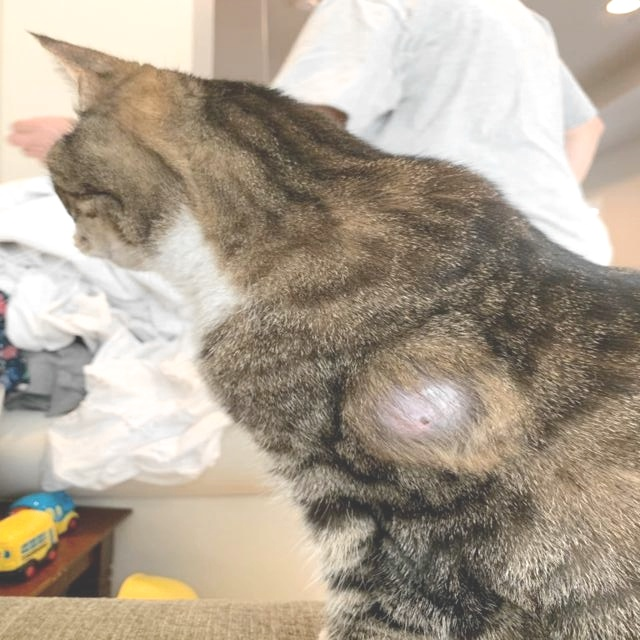lump_and_bump: (374, 372, 481, 444)
